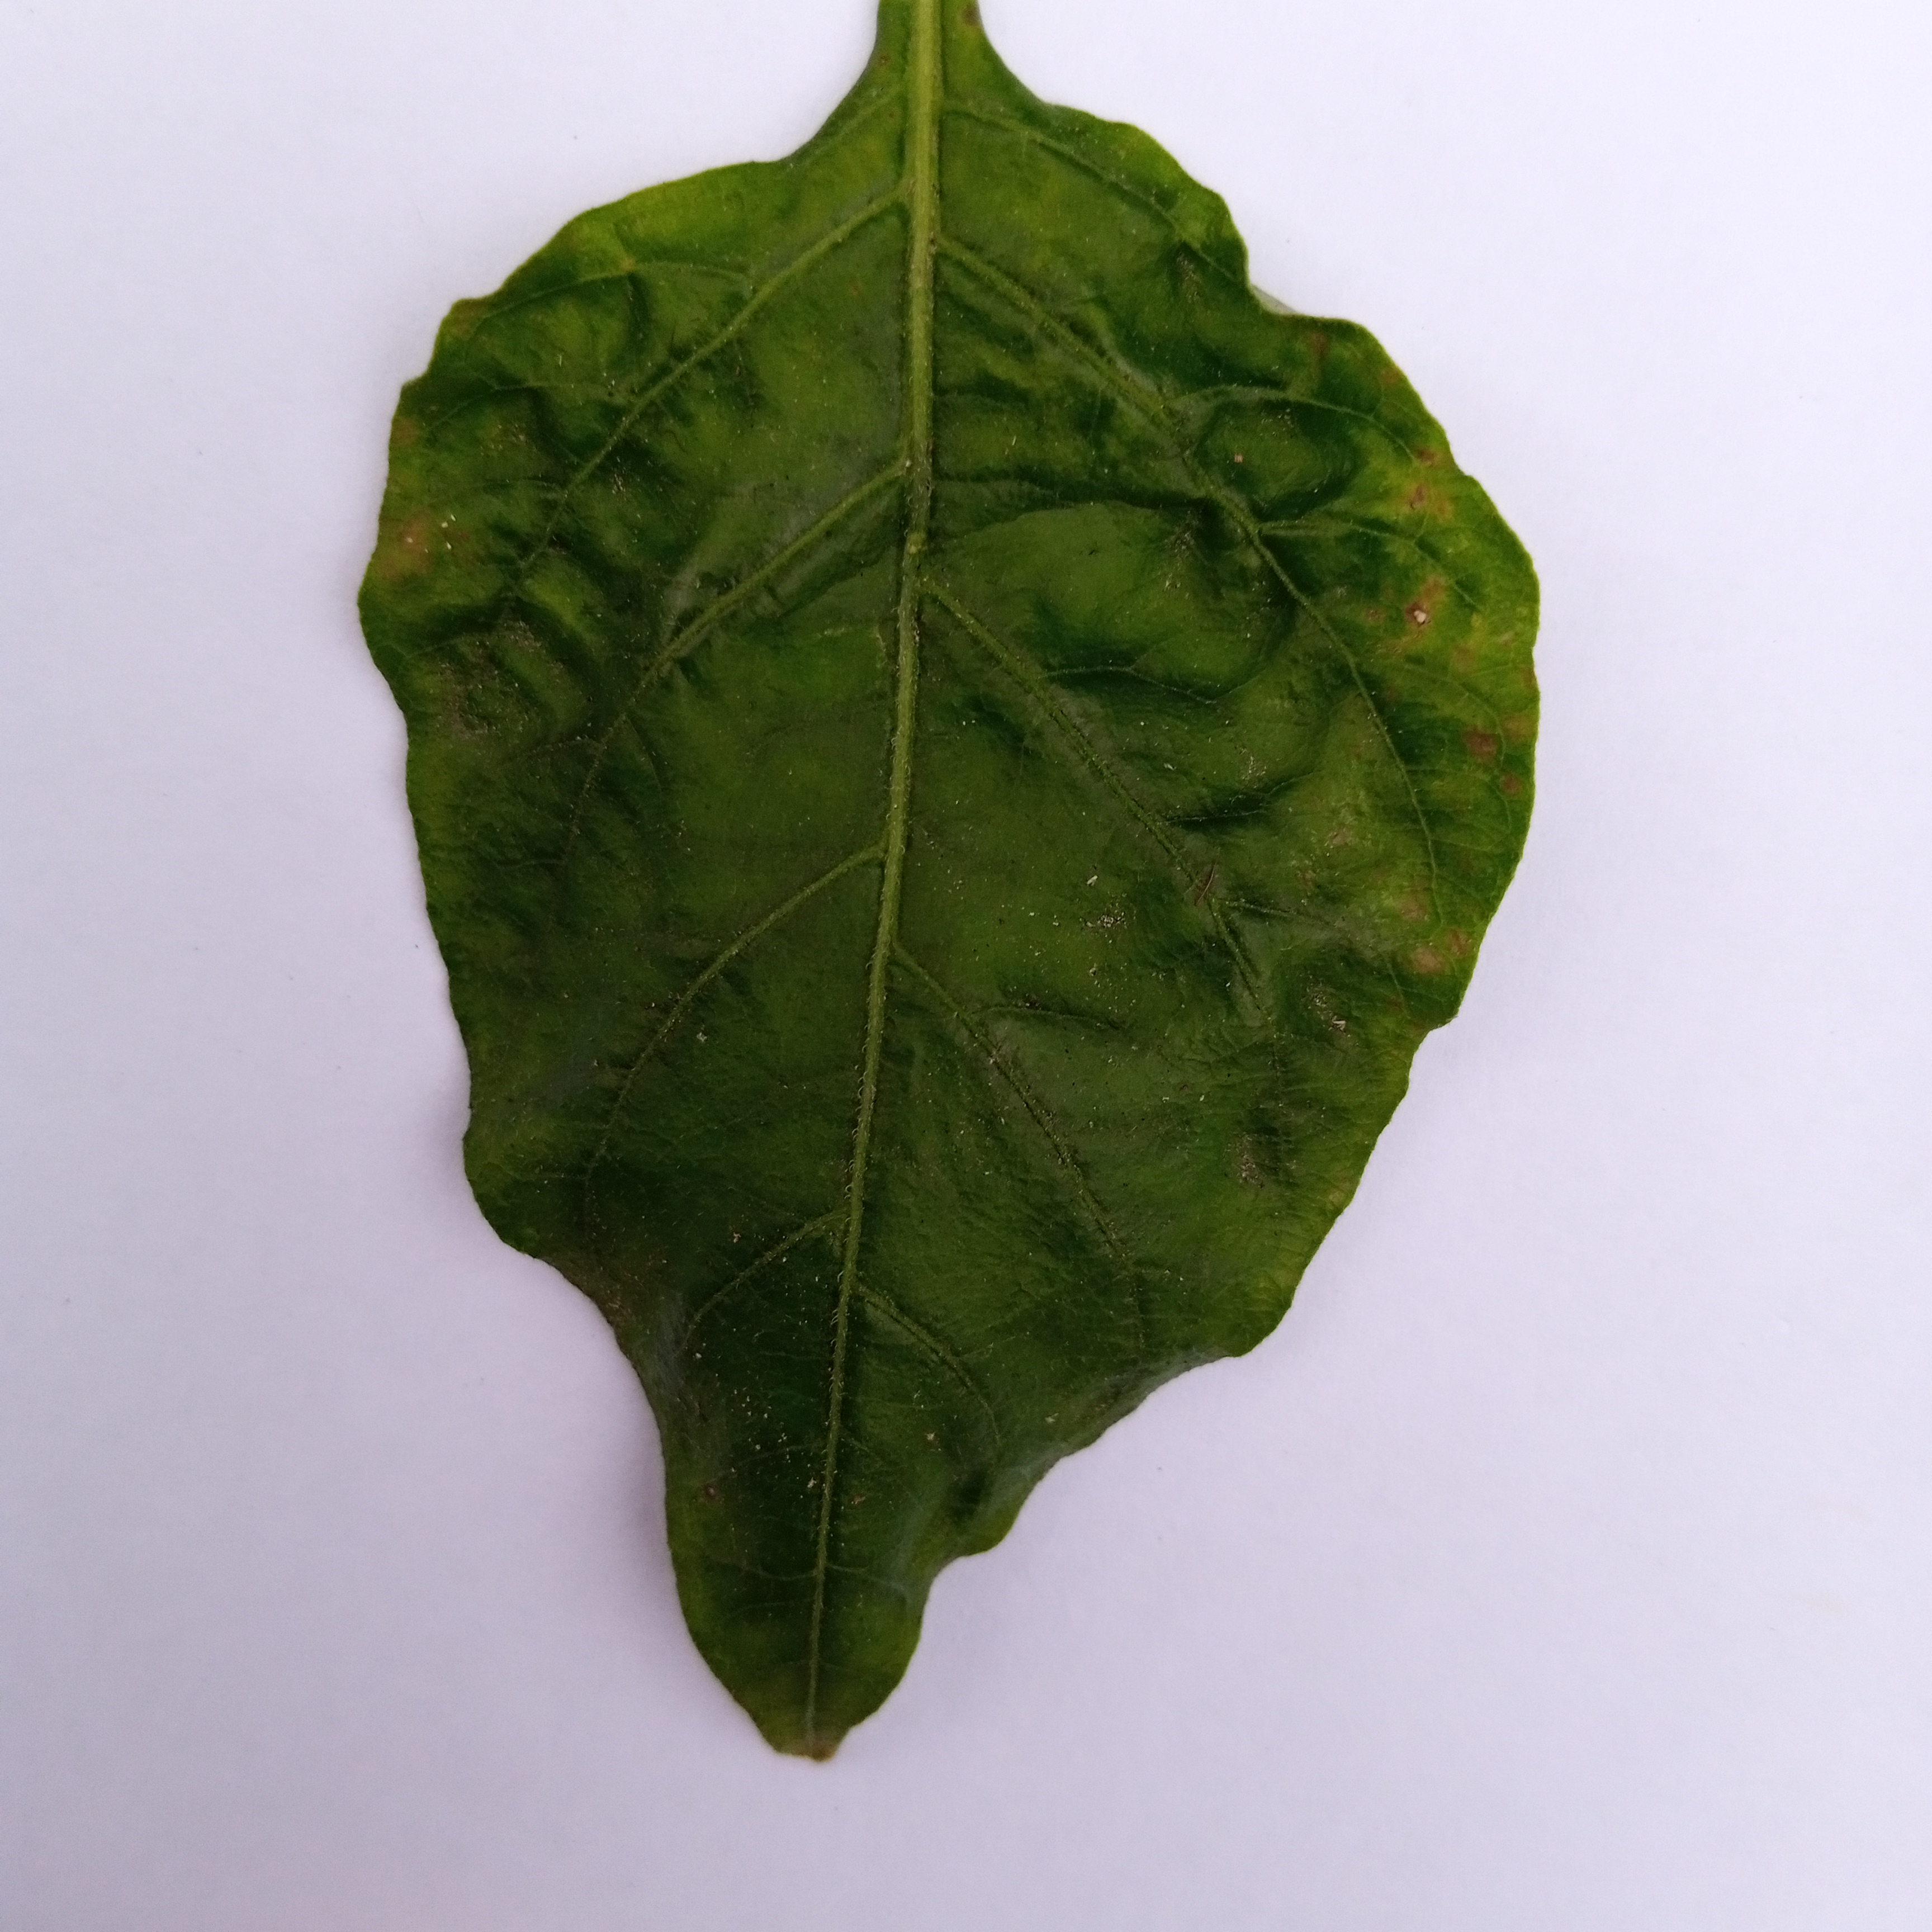Leaf: (288, 25, 1601, 1805)
